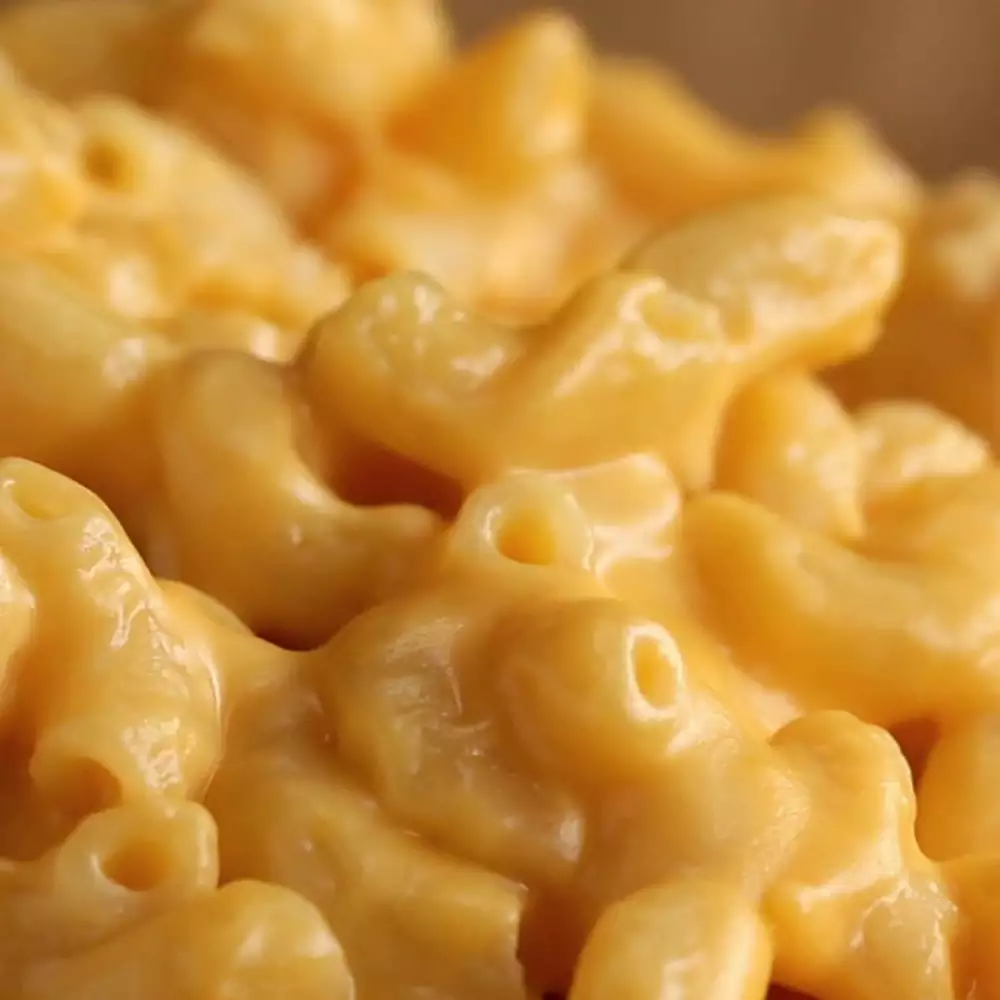macncheese: (24, 108, 999, 968)
